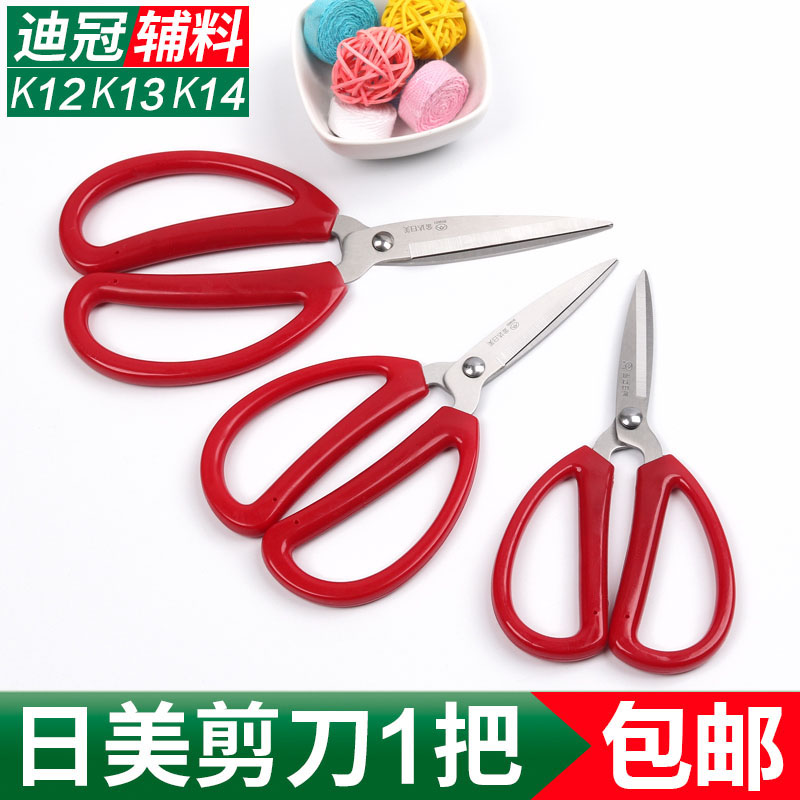scissors: (77, 253, 634, 629), (40, 142, 677, 390), (489, 263, 738, 675)
